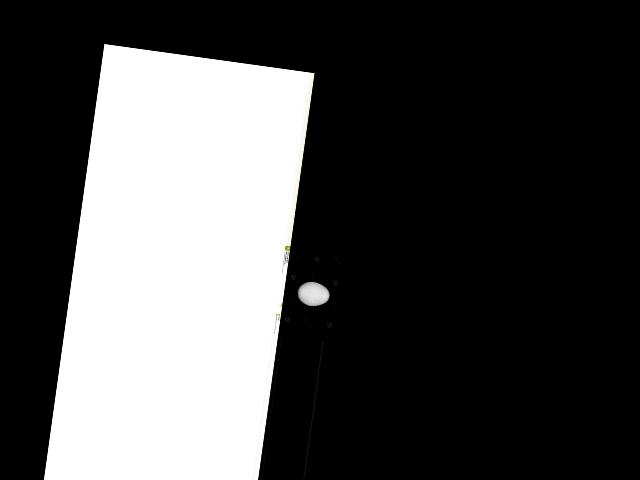egg: (295, 280, 330, 309)
